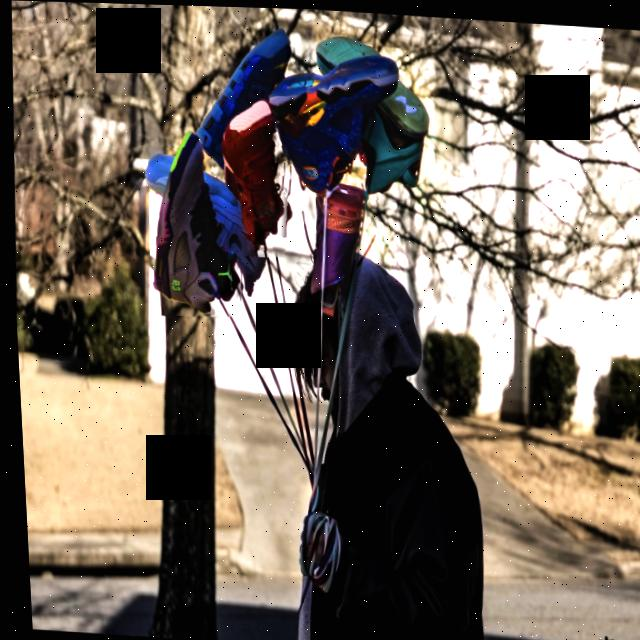shoe: (255, 36, 407, 200), (139, 123, 249, 320), (204, 90, 298, 259)
